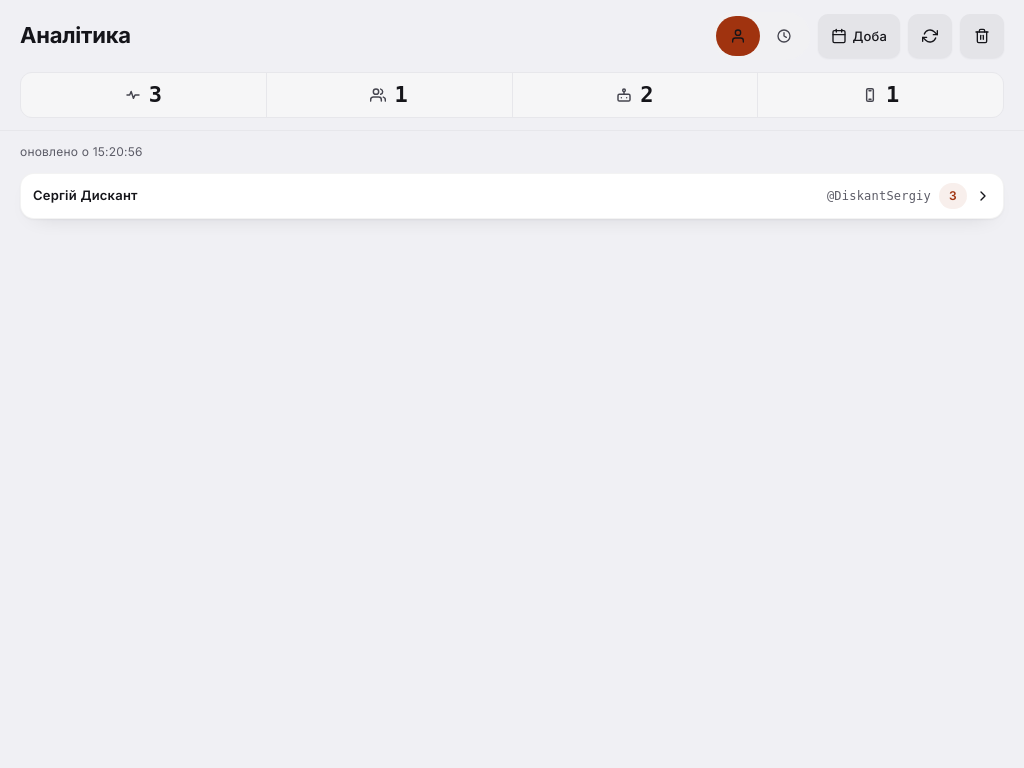
Test: екран «Аналітика» › помилка прибирання лишається на екрані, а не мовчить
Expected: the text "Сергій Дискант" is shown, 33,187 -> 138,203
Click the button named "Очистити журнал": [982, 36] box 960,14 -> 1004,58
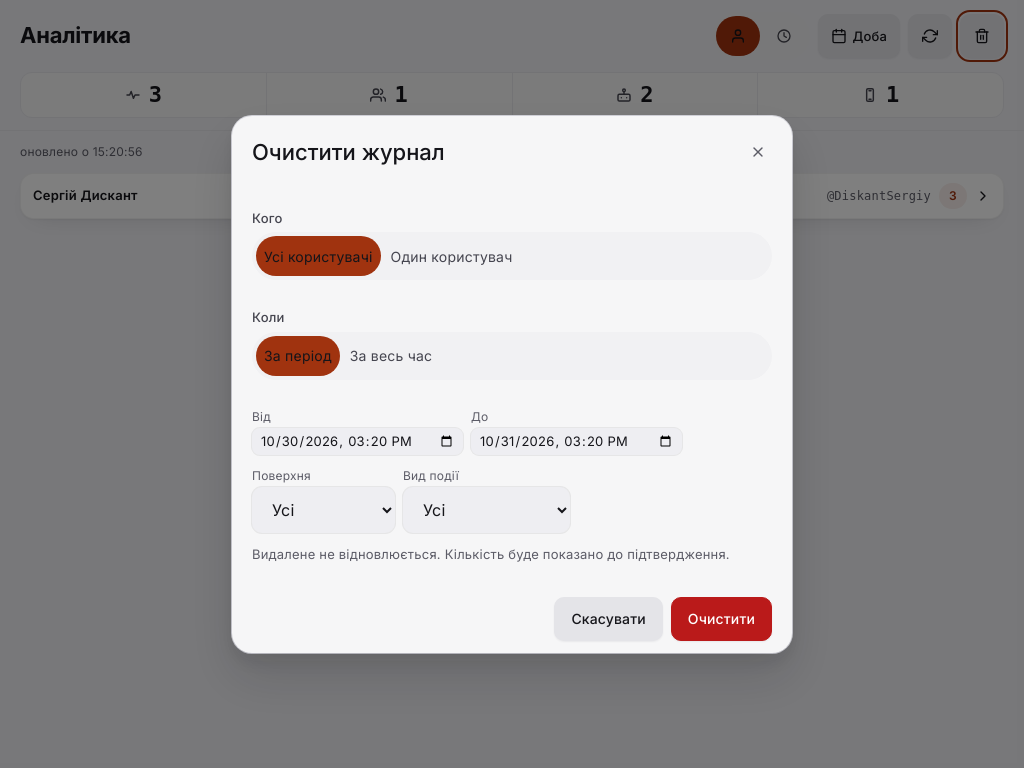
Click the button "За весь час": [391, 356] box 342,336 -> 440,376
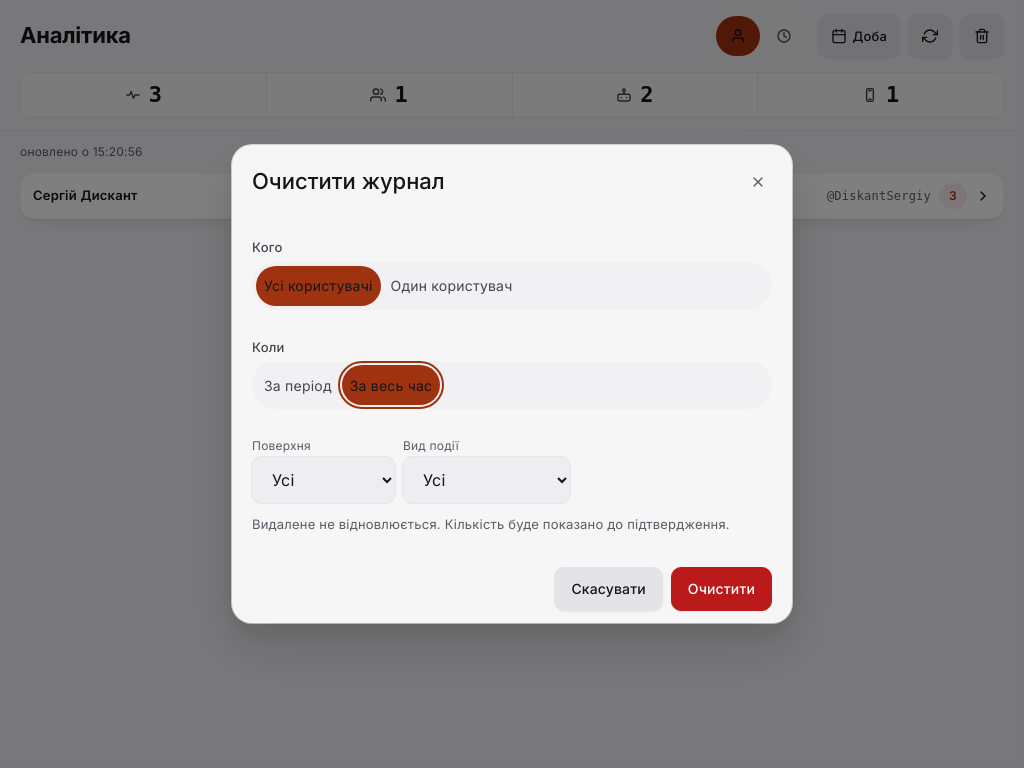
Click the button "Очистити": [721, 589] box 671,567 -> 772,611
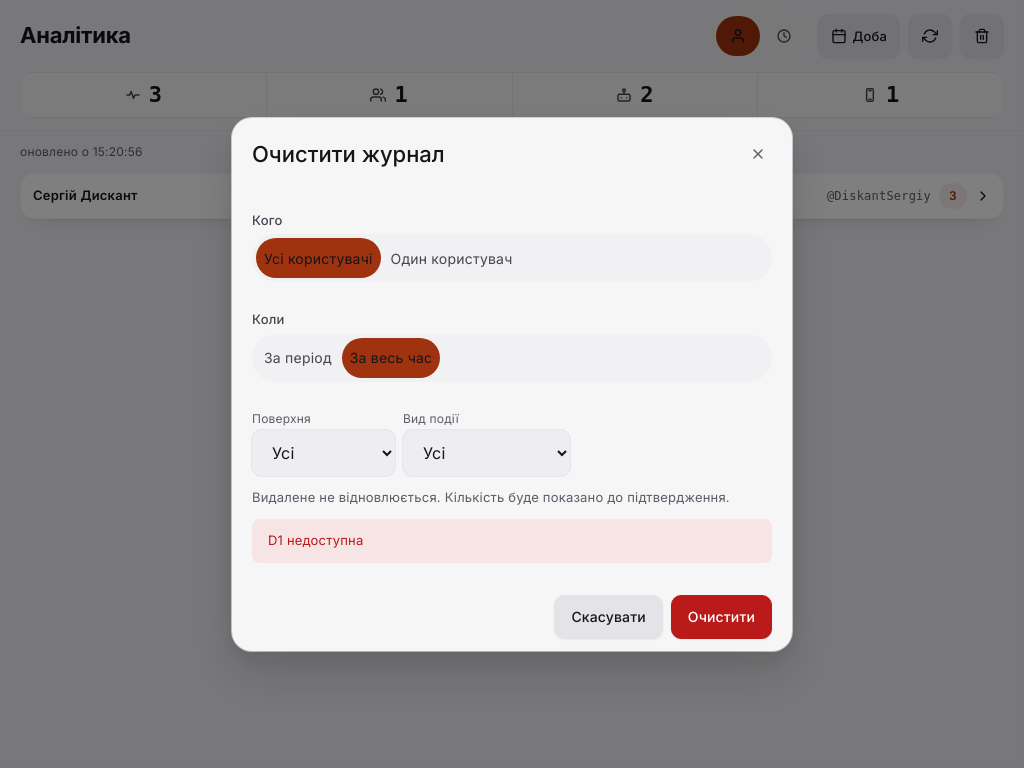
Expected: the text "D1 недоступна" is shown, 252,519 -> 772,562
